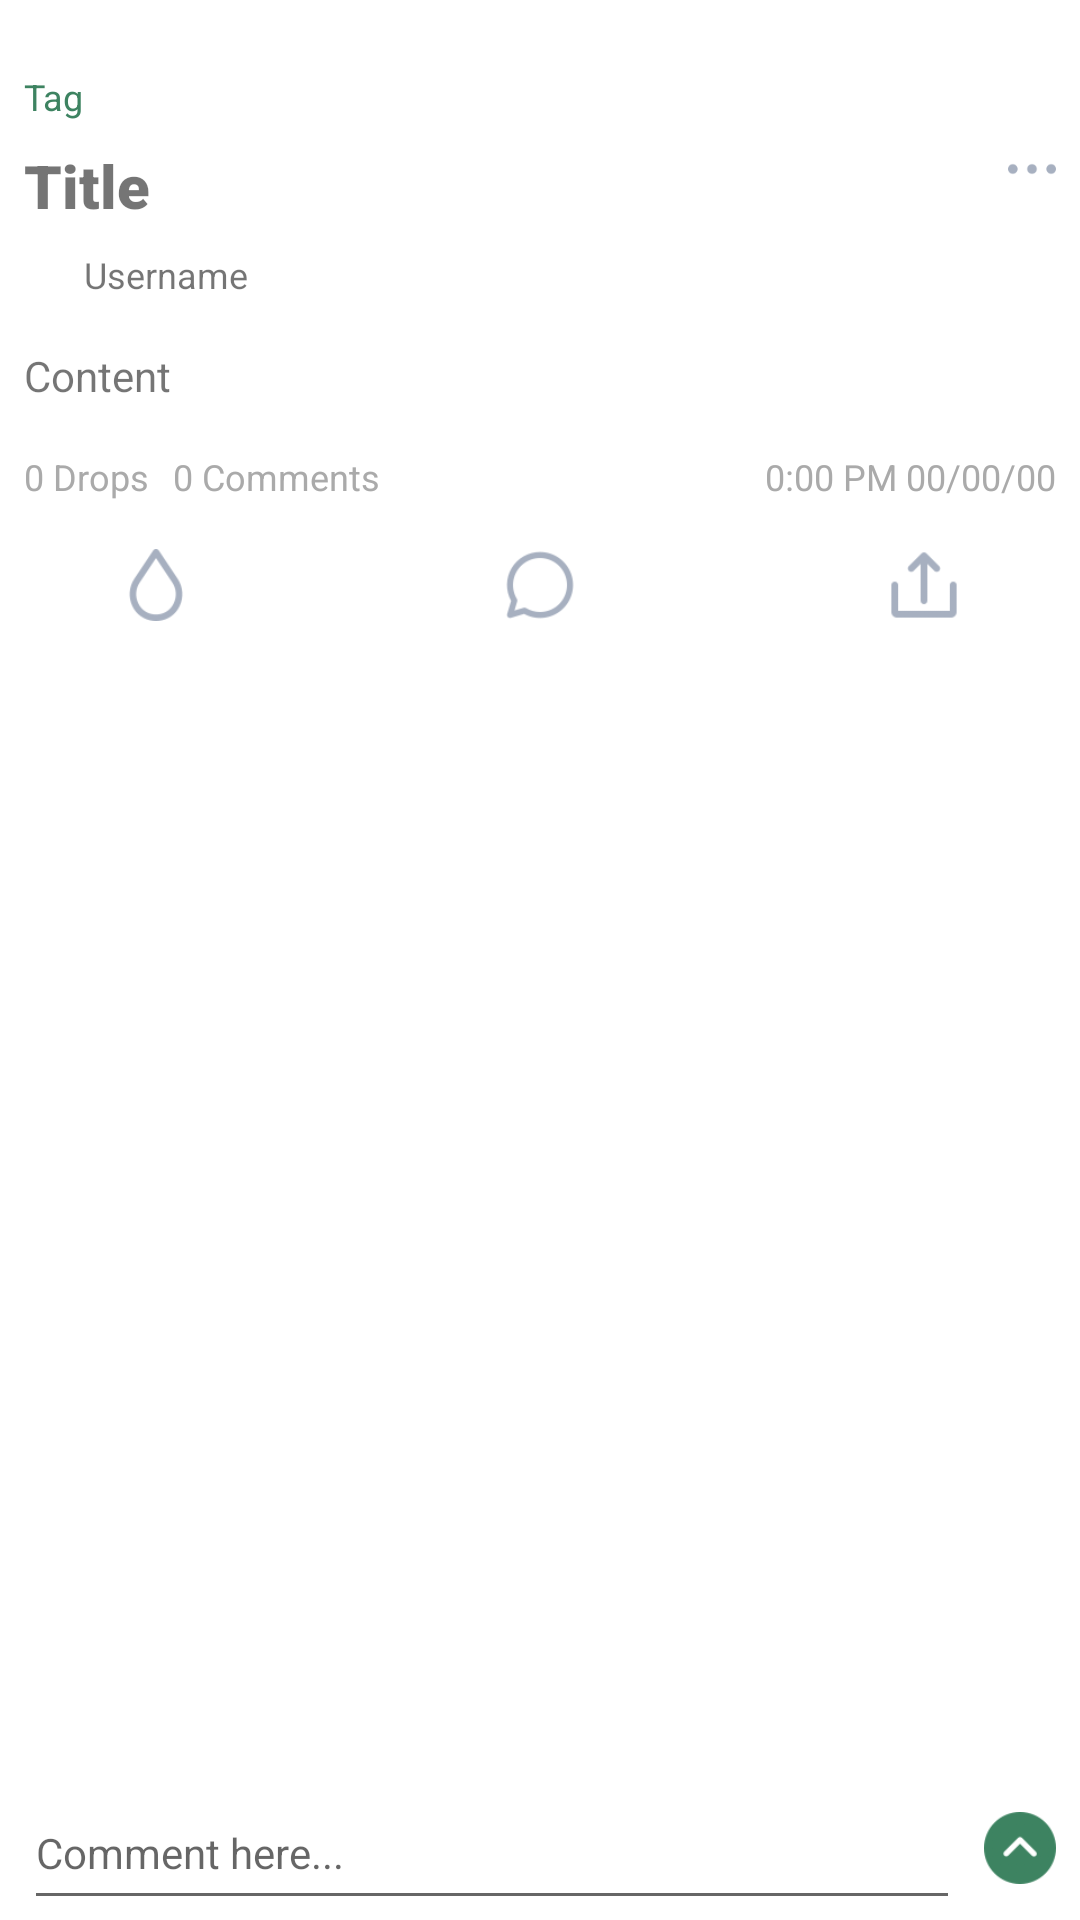

Screen size 1080w x 1920h. Icon name, then its box in pixels as (x1, y1, x2, y2):
more: (1008, 164, 1056, 174)
send: (984, 1812, 1056, 1884)
share: (891, 552, 957, 618)
